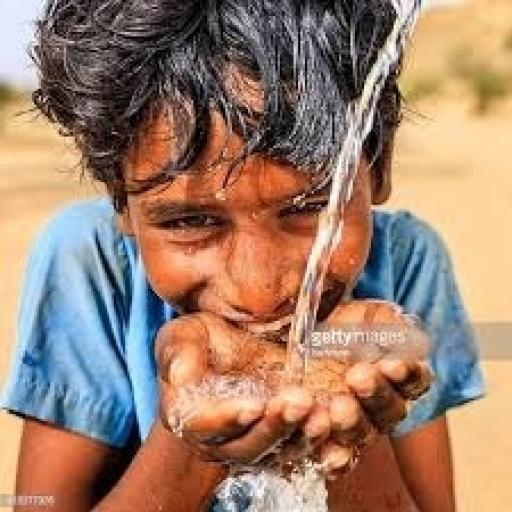drinking: (41, 40, 458, 512)
